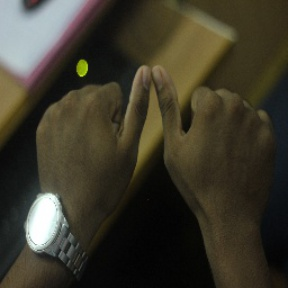A: (82, 59, 231, 187)
